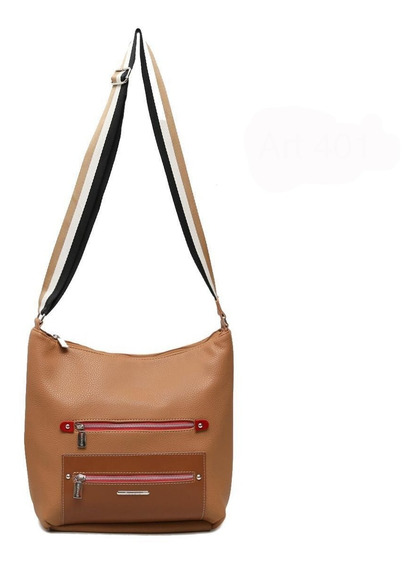cartera: (21, 24, 236, 534)
